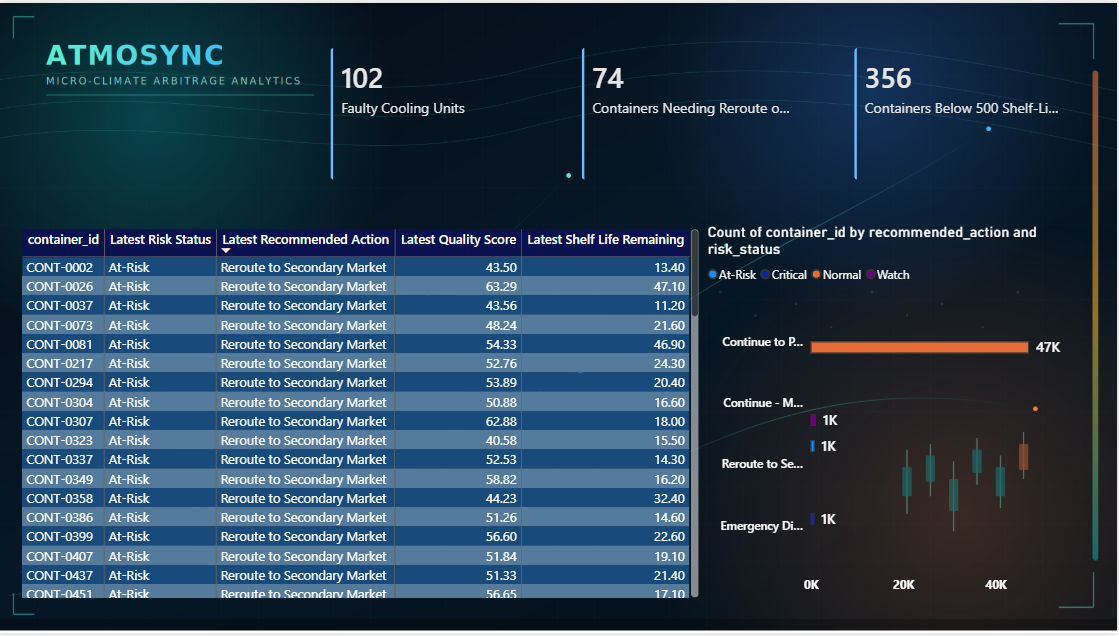

What the dashboard file says about the page in this screenshot:
{"tool":"powerbi","page":{"name":"Risk & Alerts","canvas":[1280,720],"ordinal":2},"visuals":[{"type":"cardVisual","fields":{"Data":["cleaned_dataset.Faulty Cooling Units"]},"box":[366.5,27.2,275.7,185.7],"z":0,"group":"g1"},{"type":"cardVisual","fields":{"Data":["cleaned_dataset.Containers Needing Reroute or Discount"]},"box":[653.7,27.2,284.3,185.7],"z":1000,"group":"g1"},{"type":"cardVisual","fields":{"Data":["cleaned_dataset.Containers Below 500 Shelf-Life Hours"]},"box":[965.1,27.2,284.3,185.7],"z":2000,"group":"g1"},{"type":"pivotTable","title":"Active Risk Watchlist — Current Status per Container","fields":{"Rows":["cleaned_dataset.container_id"],"Values":["cleaned_dataset.Latest Risk Status","cleaned_dataset.Latest Recommended Action","cleaned_dataset.Latest Quality Score","cleaned_dataset.Latest Shelf Life Remaining"]},"box":[27.1,212,782.5,486.7],"z":3000,"group":"g1"},{"type":"clusteredBarChart","fields":{"Y":["CountNonNull(cleaned_dataset.container_id)"],"Category":["cleaned_dataset.recommended_action"],"Series":["cleaned_dataset.risk_status"]},"box":[809.6,212,439.2,472],"z":4000,"group":"g1"},{"type":"group","id":"g1","title":"Group 1","box":[27.1,20.5,1226.3,678.6],"z":4002},{"type":"actionButton","box":[1218.4,20.5,34.5,31],"z":5000,"group":"g1"}]}

Visuals, with their boxes in screenshot pixels (x1, y1, x2, y2), scaled from the page's 1280x720 canvas onto the 1119x636 screenshot:
cardVisual - cleaned_dataset.Faulty Cooling Units: x1=320 y1=24 x2=561 y2=188
cardVisual - cleaned_dataset.Containers Needing Reroute or Discount: x1=571 y1=24 x2=820 y2=188
cardVisual - cleaned_dataset.Containers Below 500 Shelf-Life Hours: x1=844 y1=24 x2=1092 y2=188
"Active Risk Watchlist — Current Status per Container" pivotTable: x1=24 y1=187 x2=708 y2=617
clusteredBarChart - CountNonNull(cleaned_dataset.container_id) x cleaned_dataset.recommended_action: x1=708 y1=187 x2=1092 y2=604
"Group 1" group: x1=24 y1=18 x2=1096 y2=618
actionButton: x1=1065 y1=18 x2=1095 y2=45
